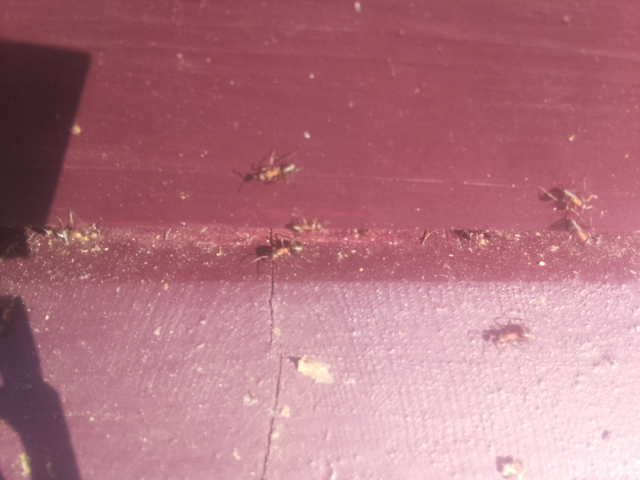ant: (242, 155, 305, 186), (477, 321, 535, 350), (563, 215, 601, 250)
